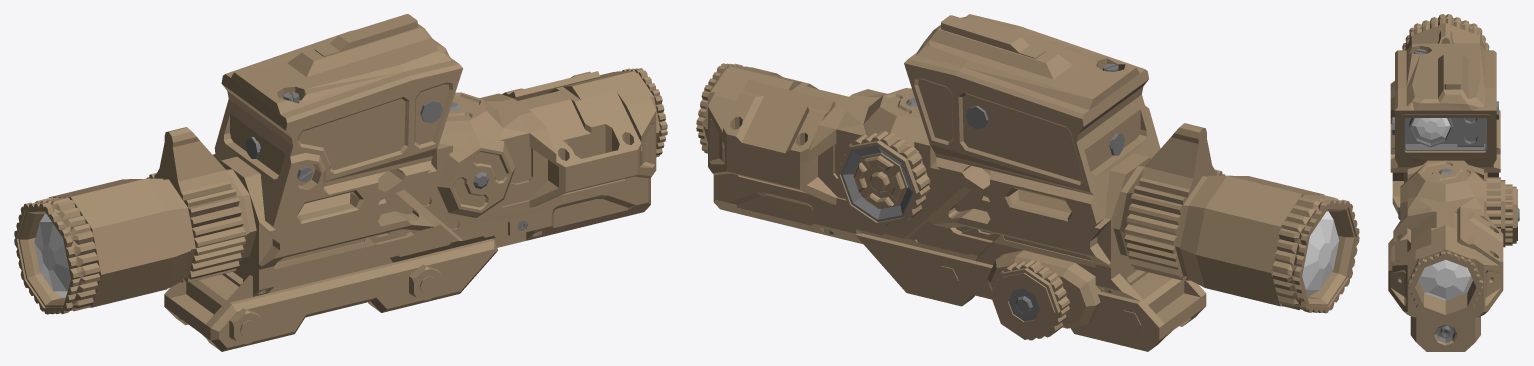
File: low-poly_vortex_xm157.glb
The picture shows the model from 3 angles, left to right: view 1: azimuth 30°, elevation 25°; view 2: azimuth 150°, elevation 25°; view 3: azimuth 270°, elevation 25°; orthographic projection. The views are drawn at different scales.
Visible parts, largest first — view 1: vortex xm157_0; view 2: vortex xm157_0; view 3: vortex xm157_0.
Part boxes in pixels (x1,y1,x2,y2): vortex xm157_0: (14, 14, 667, 351); vortex xm157_0: (696, 14, 1359, 351); vortex xm157_0: (1388, 14, 1519, 351).
Bounding box in the file's own units: 2.68 × 1.11 × 0.6435.
